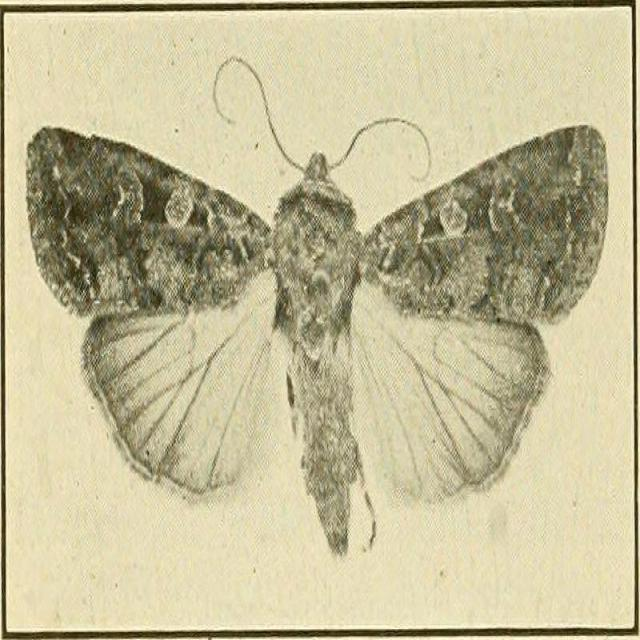armyworm: (22, 57, 616, 548)
